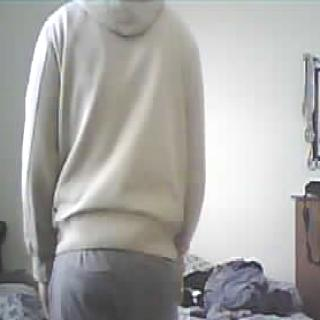Gray Sweatpants: (51, 252, 180, 320)
Yellow Hoodie: (28, 2, 206, 252)
